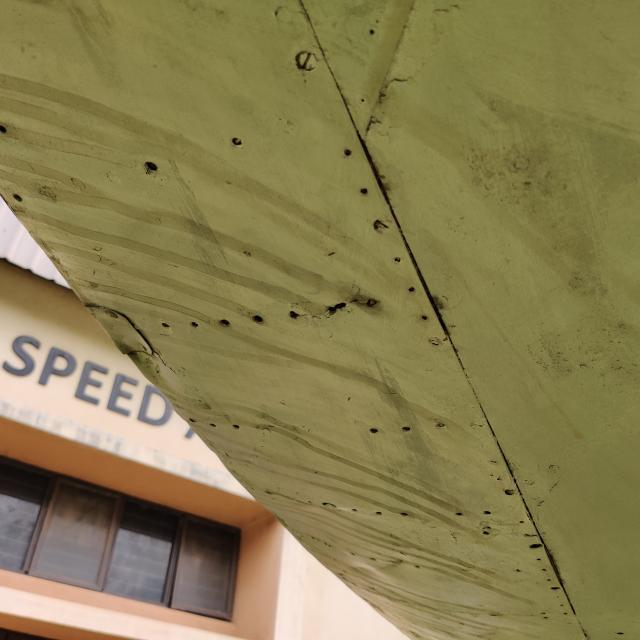Crack: (326, 302, 348, 316)
